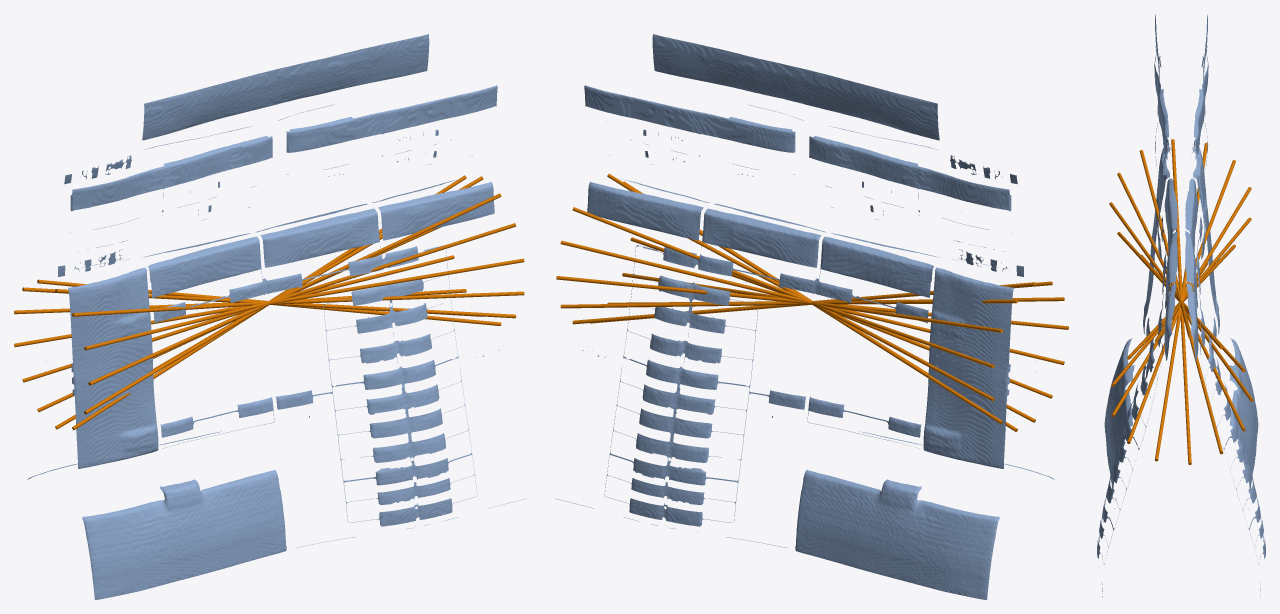
File: Q25041761_6150-37-539-6873_DigitalTwin.glb
3 renders of one model, left to right at view 1: azimuth 30°, elevation 25°; view 2: azimuth 150°, elevation 25°; view 3: azimuth 270°, elevation 25°, orthographic. The views are drawn at different scales.
Parts seen in each view (by area): view 1: world; view 2: world; view 3: world.
Boxes of the visible parts, x1=… form: world: x1=14, y1=34, x2=526, y2=599; world: x1=555, y1=34, x2=1068, y2=599; world: x1=1097, y1=14, x2=1265, y2=597.
Size of the model in its own units: 542 by 546 by 196.
